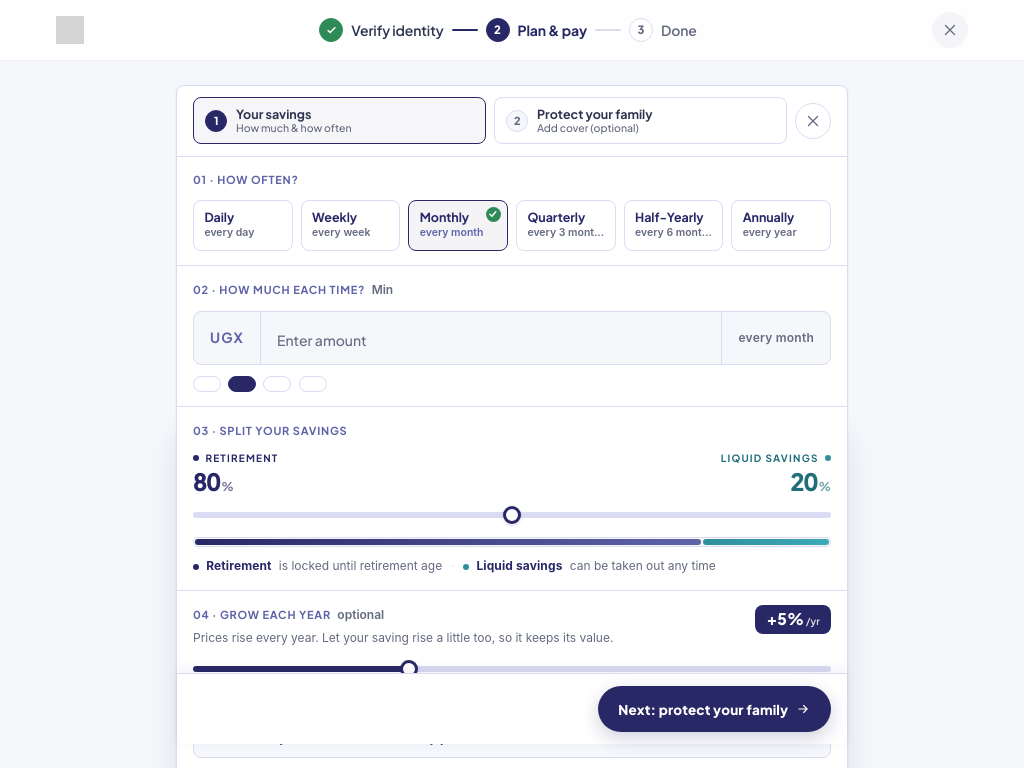
Test: <ContributionSettings /> — cover amounts › shows a cover picker only for selected products
This screenshot has width=1024, height=768.
Click the button "Next: protect your family". click: (714, 709)
box: [598, 686, 831, 732]
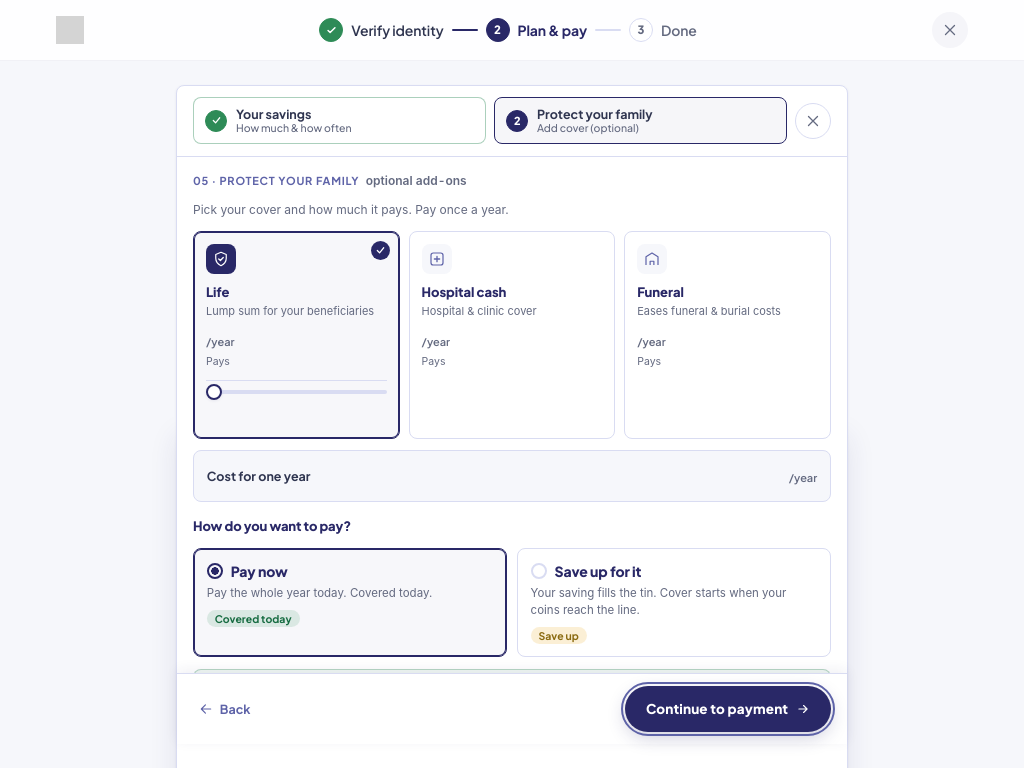
Now the element named "Life cover amount" is shown, box [206, 390, 387, 426]
Click the switch labelled "Hospital cash Hospital & clinic cover /year Pays". click: (512, 307)
box: [410, 232, 614, 383]
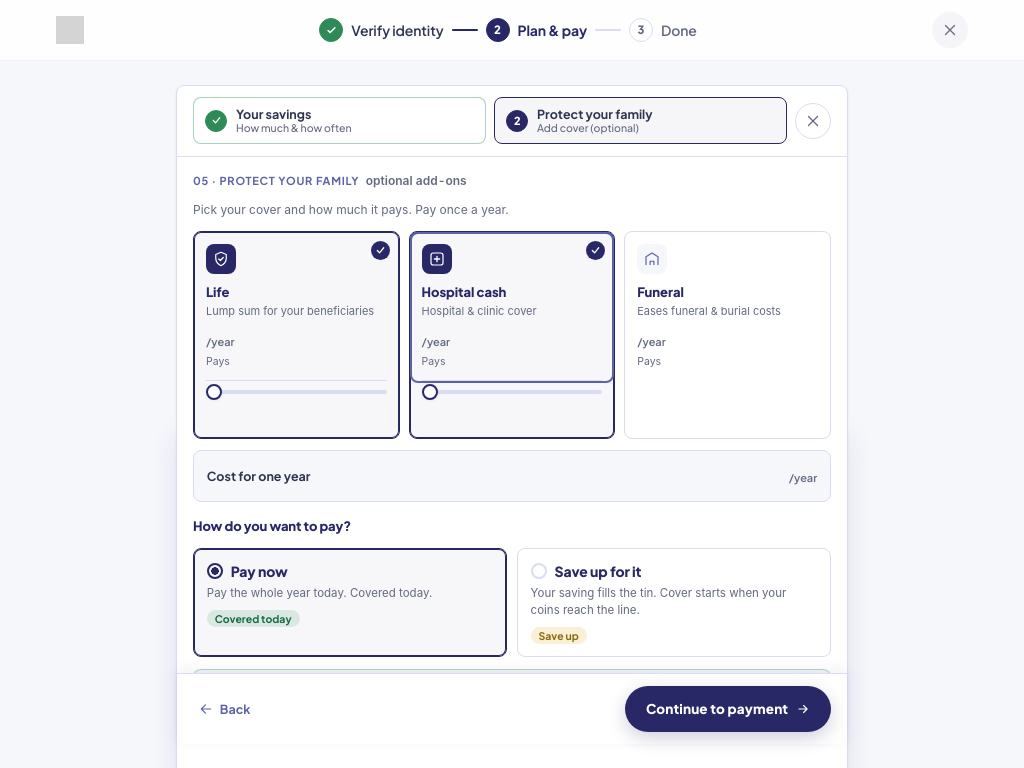
Now the element named "Hospital cash cover amount" is shown, box [422, 390, 602, 426]
